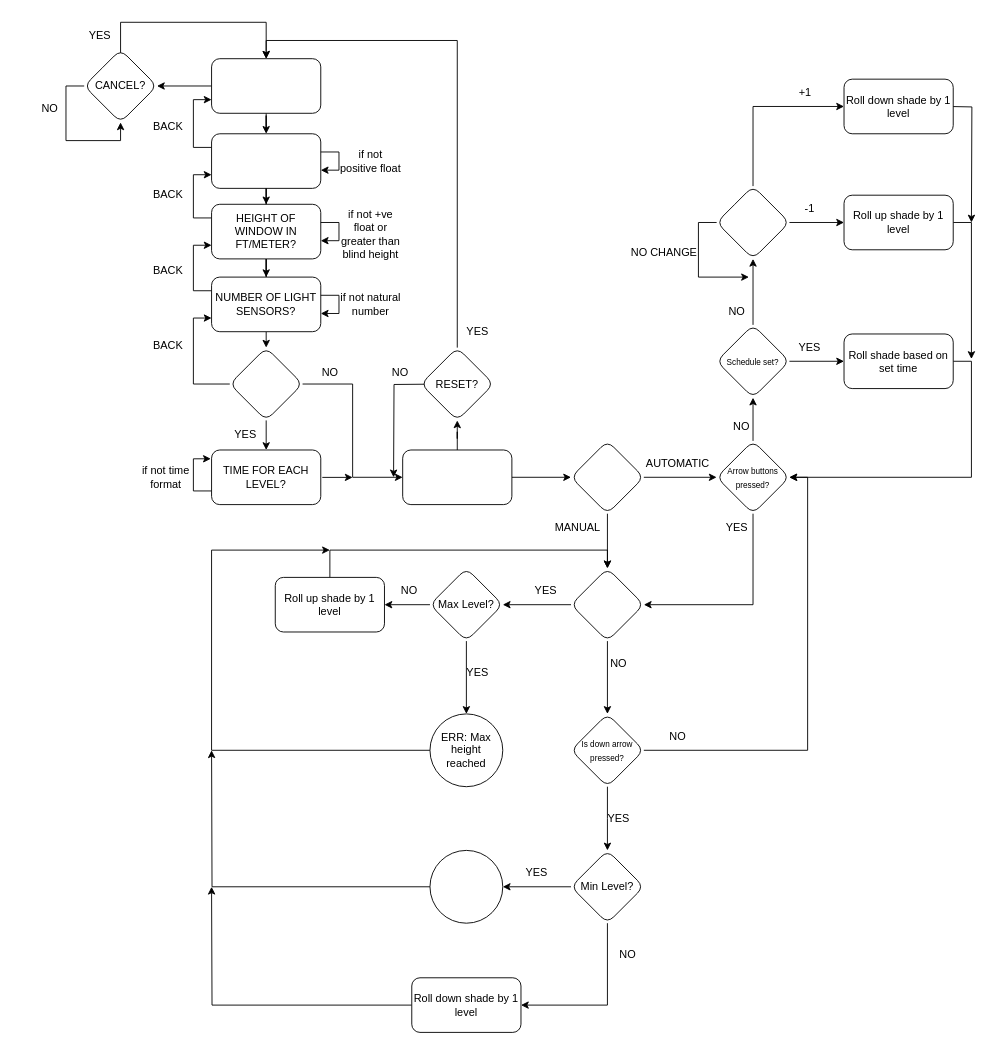
Some shapes in this 995 by 1048 pixel diagram are drawn without their labels. Here are the shapes that lost their labels. From the top down, the centre of each, then its label:
(266,85): SETUP START
(266,160): HEIGHT OF BLIND IN FT/METER?
(752,222): Light array value
(266,383): SCHEDULE ?
(457,477): START
(607,477): Mode?
(607,604): Is up arrow pressed?
(466,886): ERR: Min height reached
